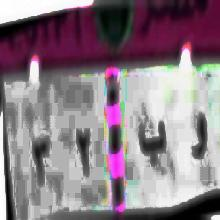2: (72, 121, 92, 182)
3: (29, 132, 52, 190)
baa: (136, 115, 167, 170)
waw: (186, 102, 210, 171)
